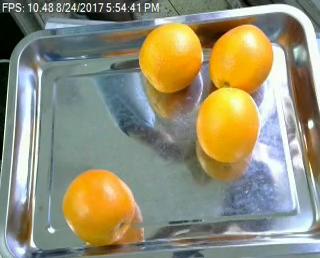Orange: (63, 168, 137, 246), (196, 86, 261, 163), (208, 22, 273, 90), (139, 22, 203, 91)
